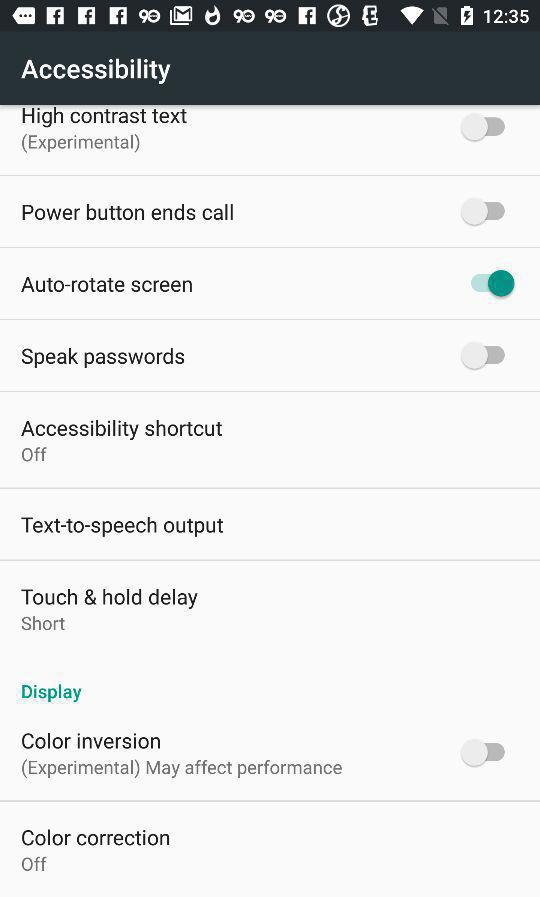Switch: (459, 737, 506, 769), (459, 112, 506, 143), (460, 341, 506, 372), (460, 197, 506, 228), (470, 269, 516, 298)
Text: (22, 759, 343, 780), (21, 516, 225, 539), (21, 419, 224, 441), (21, 57, 173, 86), (21, 588, 200, 611), (22, 204, 235, 223), (22, 107, 189, 129), (22, 347, 186, 369), (21, 277, 194, 294), (22, 828, 171, 847), (22, 731, 162, 751), (22, 134, 141, 155), (22, 683, 84, 704), (22, 615, 67, 632), (22, 855, 49, 872), (22, 446, 49, 463)
Toolbar: (1, 32, 540, 106)
UpperTaskBar: (1, 1, 540, 33)
